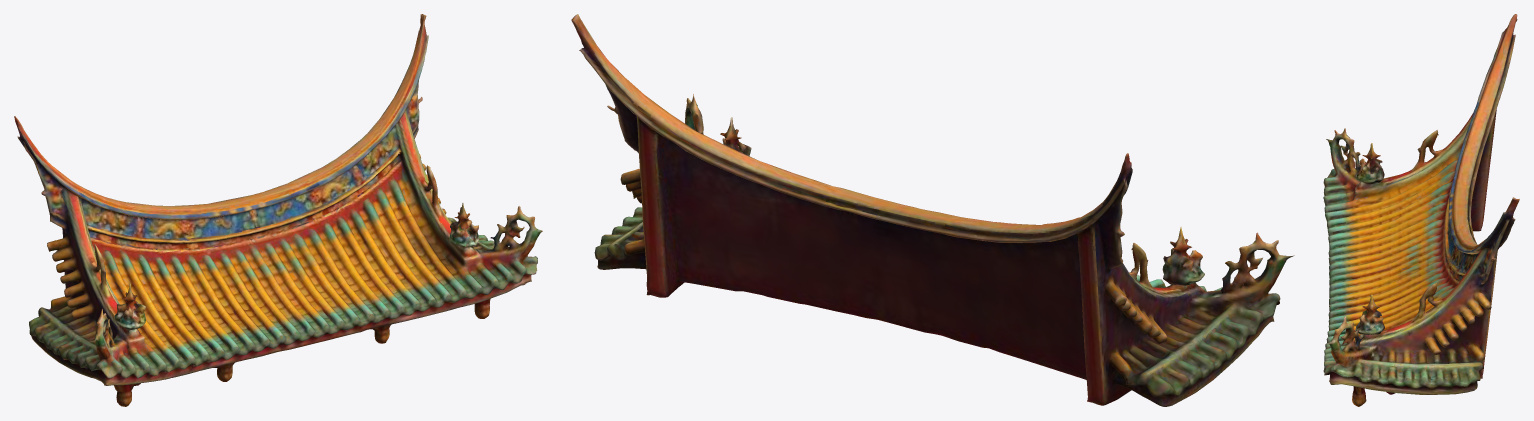
The model's file is roof2-lite.glb.
3 renders of one model, left to right at view 1: azimuth 30°, elevation 25°; view 2: azimuth 150°, elevation 25°; view 3: azimuth 270°, elevation 25°, orthographic. The views are drawn at different scales.
Bounding box in the file's own units: 0.9887 × 0.4984 × 0.4022.
Materials: 1 (1 with a texture image).
